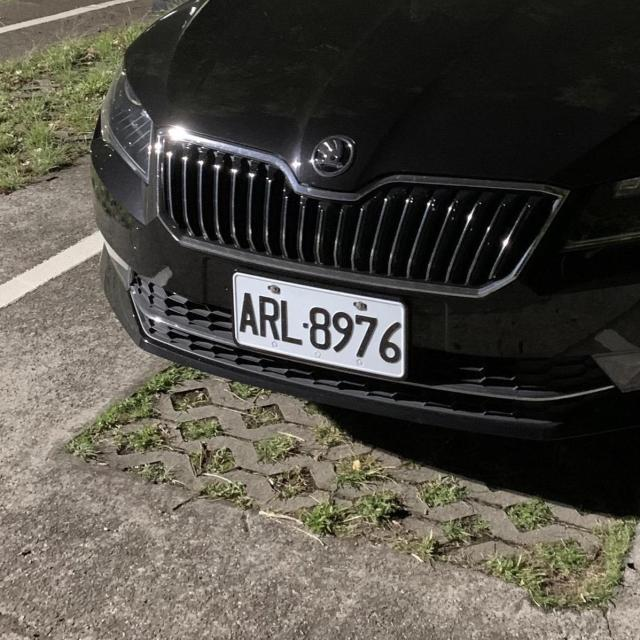W: (225, 260, 419, 384)
